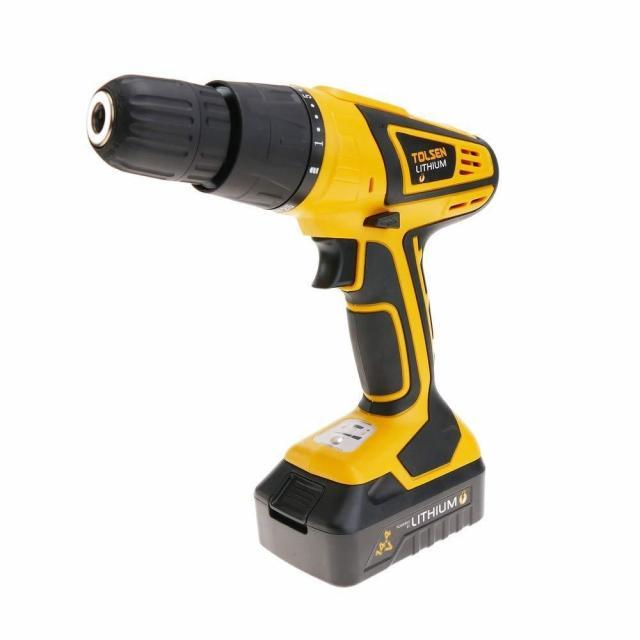drill: (86, 74, 500, 588)
